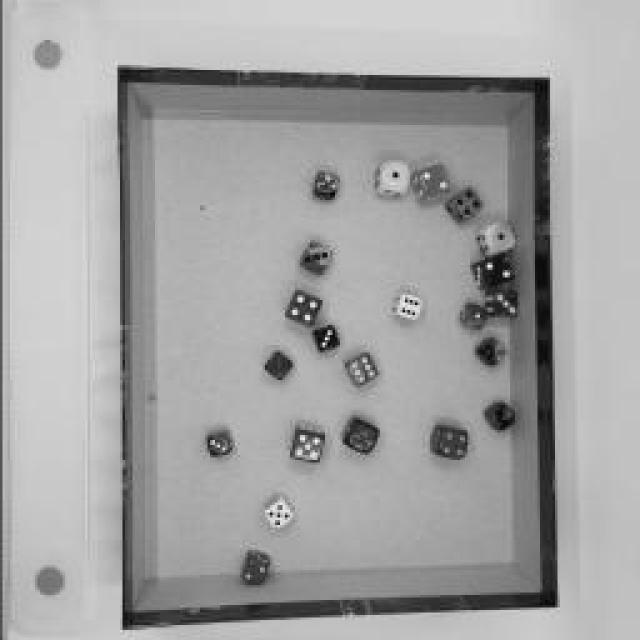dice_1: (472, 220, 516, 260), (371, 159, 409, 201), (482, 400, 516, 432), (455, 301, 487, 334)
dice_2: (408, 160, 452, 208), (467, 252, 515, 292), (238, 550, 272, 590)
dice_3: (295, 239, 335, 279), (260, 349, 295, 386), (482, 289, 520, 321), (310, 324, 340, 356), (204, 428, 234, 460)
dice_4: (281, 286, 324, 332), (426, 421, 469, 464), (442, 185, 486, 227)
dice_5: (338, 412, 382, 458), (285, 423, 327, 465), (257, 495, 295, 533), (472, 336, 506, 369), (308, 170, 338, 202)
dice_6: (340, 352, 380, 390), (388, 290, 422, 325)
